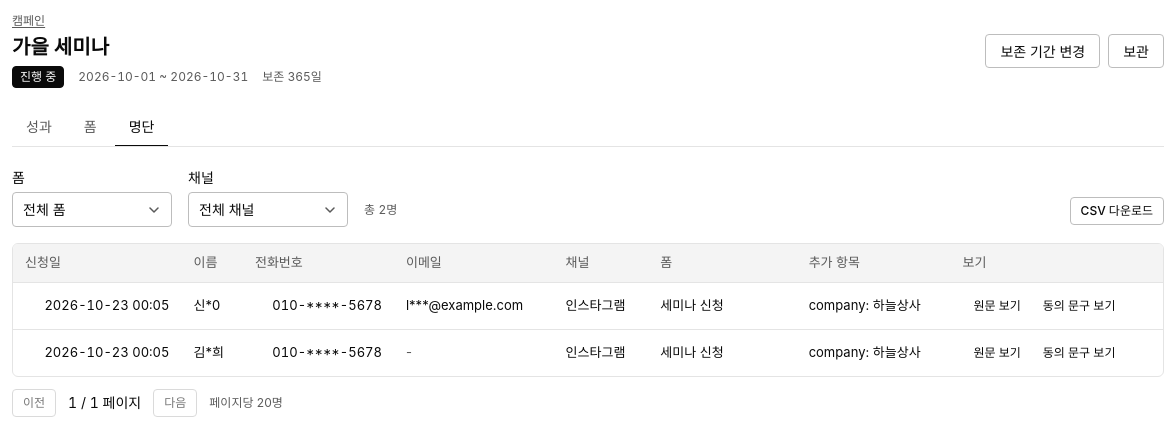
원문 보기 › 원문 보기는 그 줄만 원문으로 바꾸고 가리기로 되돌린다
Click the button "원문 보기" in the row of "신*0" at (997, 306), box [962,292,1032,320]
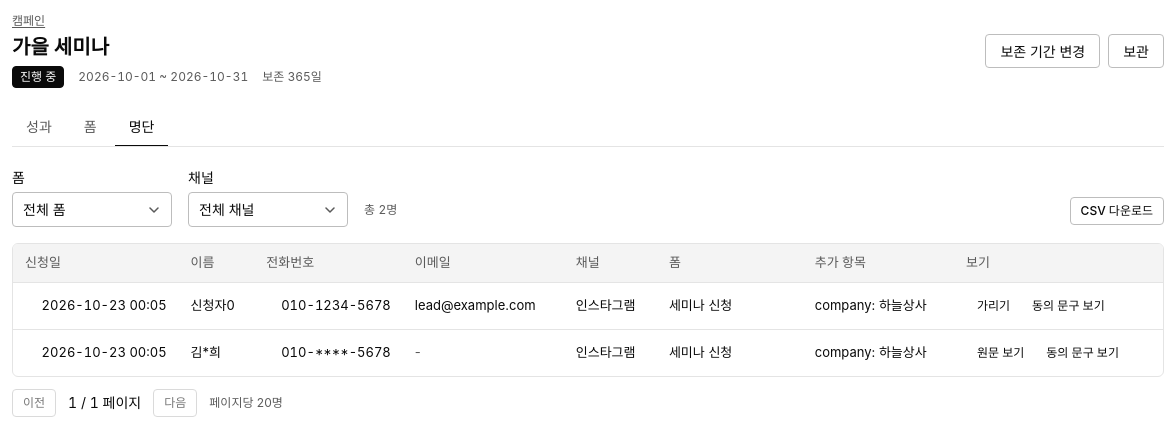
Expected: the text "신청자0" is shown, [179,282,254,329]
Expected: the text "010-1234-5678" is shown, [254,282,403,329]
Expected: the text "lead@example.com" is shown, [403,282,564,329]
Click the button "가리기" at (993, 306), box [966,292,1021,320]
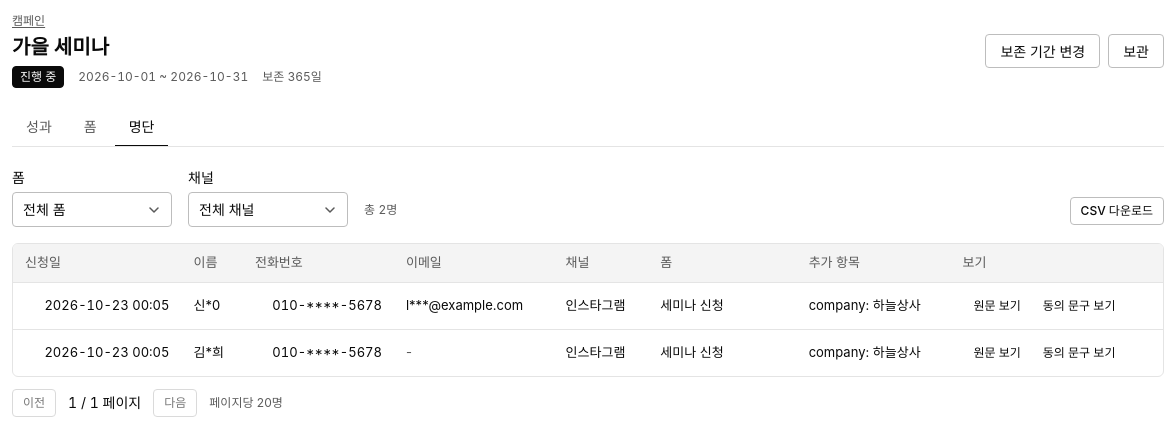
Expected: the text "신*0" is shown, [181,282,243,329]
Expected: the text "010-****-5678" next to "신*0" is shown, [272,297,382,313]
Expected: the text "신청자0" is gone
